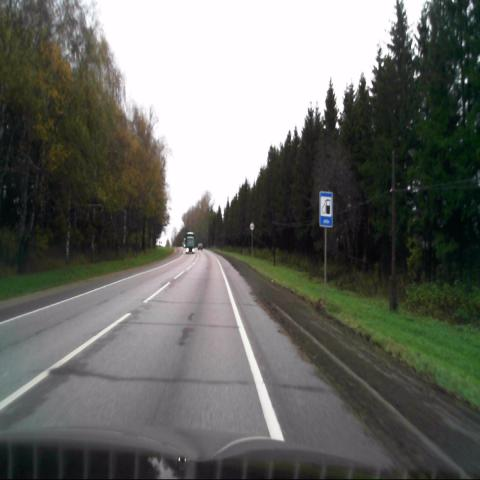7_3: (319, 192, 333, 228)
